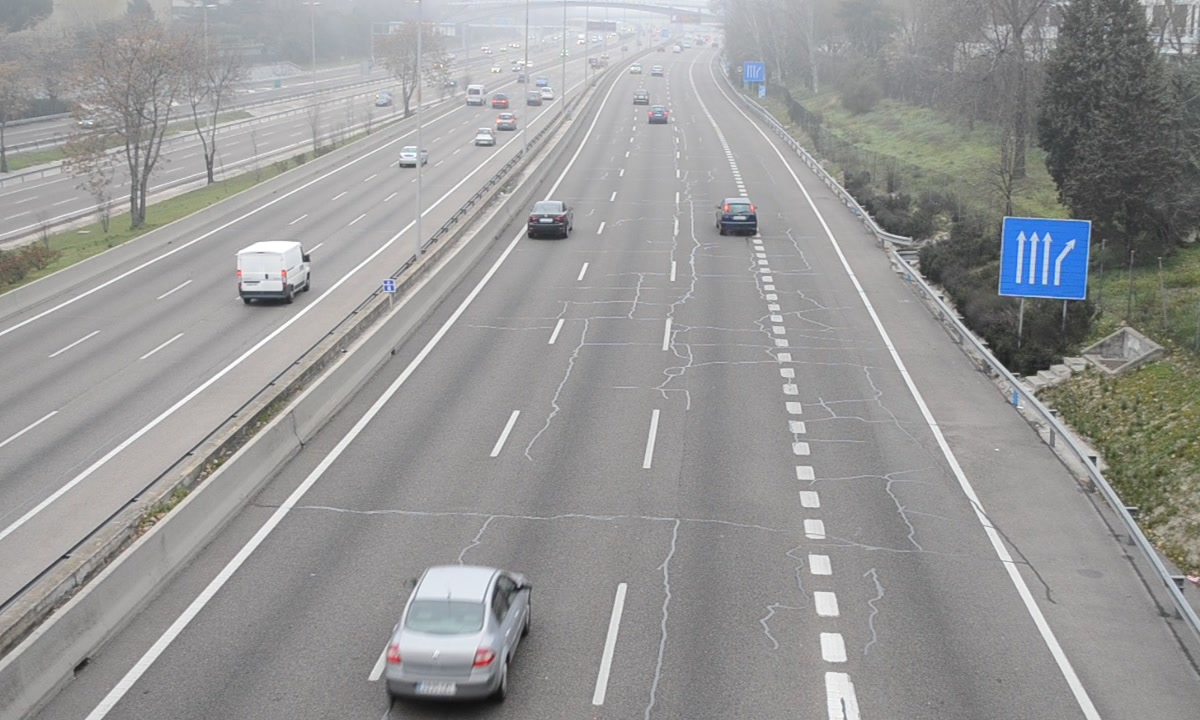car: (387, 567, 530, 699), (527, 200, 570, 237), (719, 197, 757, 237)
